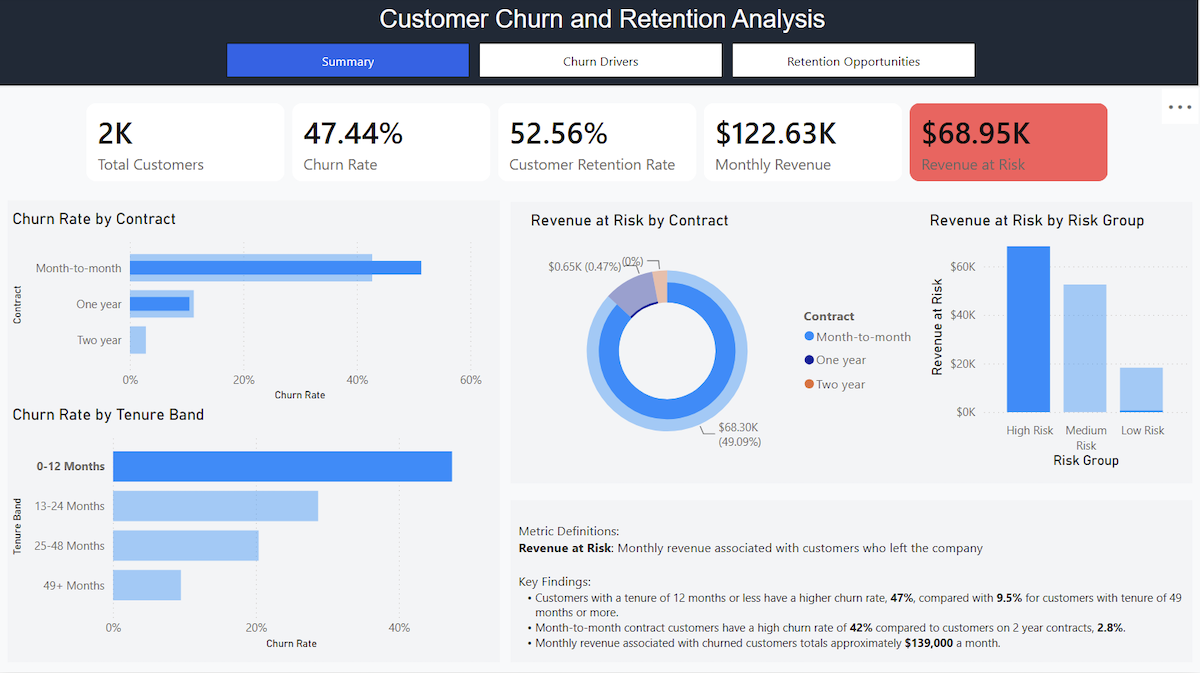

The dashboard page shown, as its layout file describes it:
{"tool":"powerbi","page":{"name":"Summary","canvas":[1280,720],"ordinal":0},"visuals":[{"type":"shape","box":[0,3.3,1280.5,94.4],"z":0,"group":"g1"},{"type":"textbox","box":[396.9,5.4,494.6,45.9],"z":1000,"group":"g1"},{"type":"shape","box":[546.7,219.7,725.7,299.4],"z":1000},{"type":"pageNavigator","box":[243.5,50,798.3,37.1],"z":2000,"group":"g1"},{"type":"shape","box":[546.7,536.9,725.7,172.5],"z":2000},{"type":"shape","box":[11.4,218,523.9,491.4],"z":3000},{"type":"clusteredBarChart","fields":{"Category":["Telco.Contract"],"Y":["Telco.Churn Rate"]},"box":[10.8,227.8,509.3,208.3],"z":4000},{"type":"clusteredBarChart","fields":{"Category":["Telco.Tenure Band"],"Y":["Telco.Churn Rate"]},"box":[10.8,436.1,509.3,263.6],"z":5000},{"type":"clusteredColumnChart","fields":{"Category":["Telco.Risk Group"],"Y":["Telco.Revenue At Risk"]},"box":[987.1,229.4,284.7,278.2],"z":6000},{"type":"donutChart","fields":{"Category":["Telco.Contract"],"Y":["Telco.Revenue At Risk"]},"box":[562.4,229.4,424.7,278.2],"z":7000},{"type":"textbox","box":[549.7,554.6,722.1,161],"z":8000},{"type":"group","id":"g1","title":"Group 1","box":[0,3.3,1280.5,94.4],"z":9000},{"type":"cardVisual","fields":{"Data":["Telco.Total Customers","Telco.Churn Rate","Telco.Customer Retention Rate","Telco.Monthly Revenue","Telco.Revenue At Risk"]},"box":[78.1,97.6,1121.1,117.2],"z":10000}]}

Visuals, with their boxes in screenshot pixels (x1, y1, x2, y2), scaled from the page's 1280x720 canvas onto the 1200x673 screenshot:
shape: [x1=0, y1=3, x2=1199, y2=91]
textbox: [x1=372, y1=5, x2=836, y2=48]
shape: [x1=513, y1=205, x2=1193, y2=485]
pageNavigator: [x1=228, y1=47, x2=977, y2=81]
shape: [x1=513, y1=502, x2=1193, y2=663]
shape: [x1=11, y1=204, x2=502, y2=663]
clusteredBarChart - Telco.Contract x Telco.Churn Rate: [x1=10, y1=213, x2=488, y2=408]
clusteredBarChart - Telco.Tenure Band x Telco.Churn Rate: [x1=10, y1=408, x2=488, y2=654]
clusteredColumnChart - Telco.Risk Group x Telco.Revenue At Risk: [x1=925, y1=214, x2=1192, y2=474]
donutChart - Telco.Contract x Telco.Revenue At Risk: [x1=527, y1=214, x2=925, y2=474]
textbox: [x1=515, y1=518, x2=1192, y2=669]
"Group 1" group: [x1=0, y1=3, x2=1199, y2=91]
cardVisual - Telco.Total Customers x Telco.Churn Rate: [x1=73, y1=91, x2=1124, y2=201]
